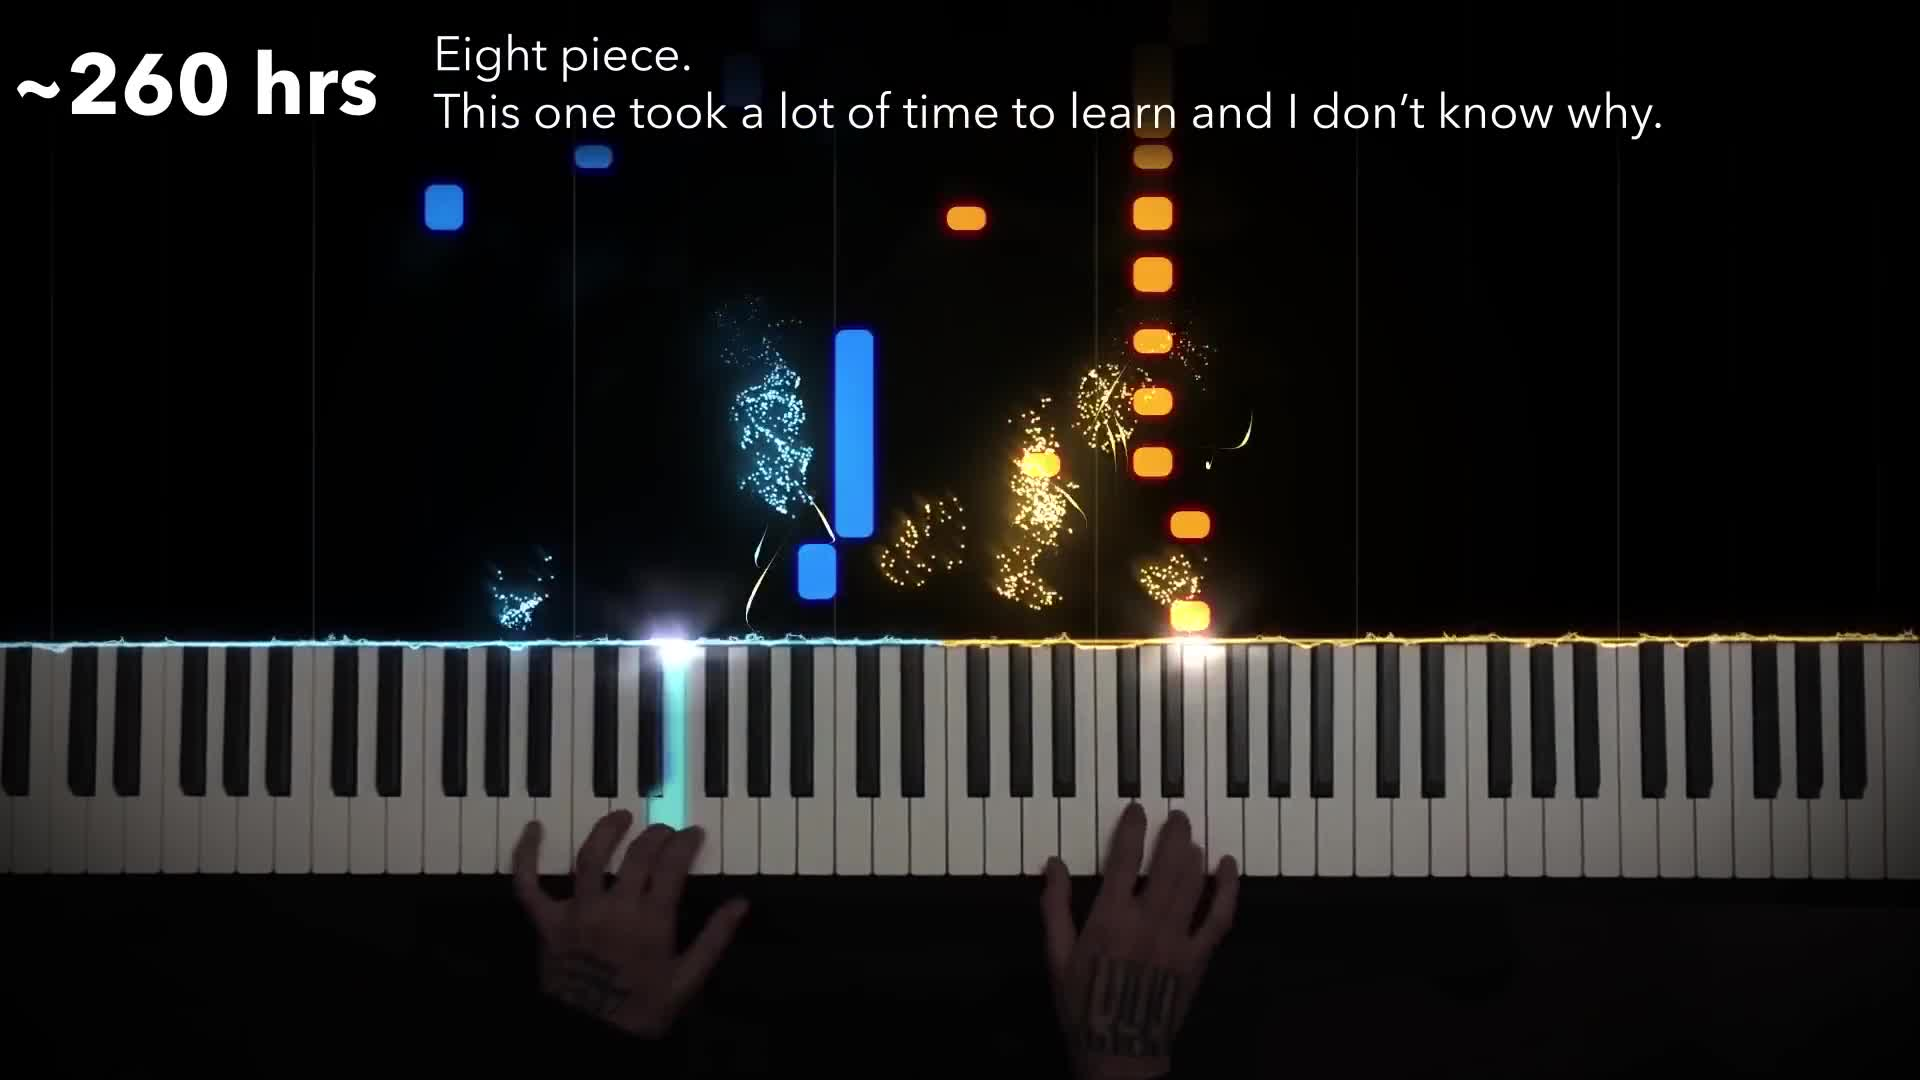left: (513, 803, 750, 1042)
right: (1039, 800, 1241, 1055)
